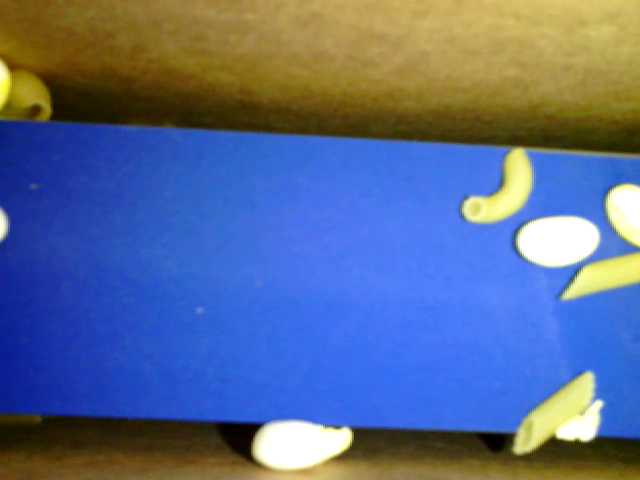elbow: (458, 143, 534, 226)
penne: (509, 369, 593, 456), (561, 247, 639, 303)
shell: (1, 66, 60, 123)
